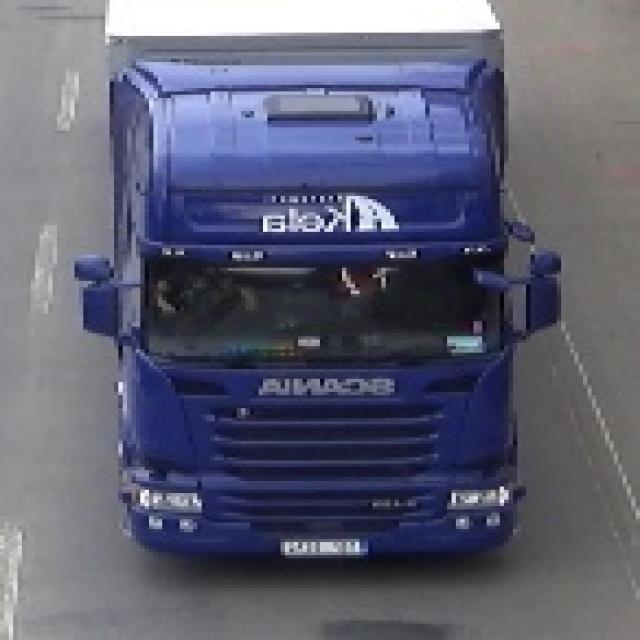truck: (66, 0, 561, 562)
